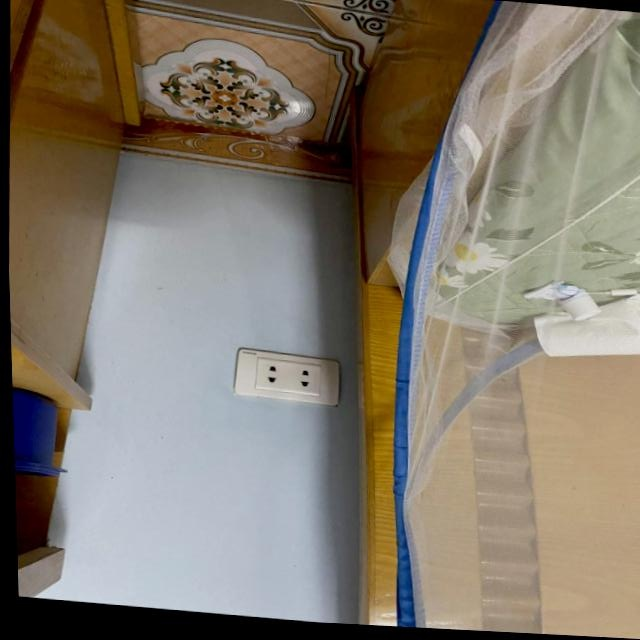outlet: (234, 346, 343, 405)
